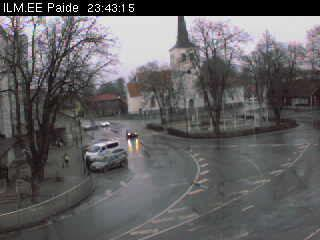car: (88, 153, 127, 175), (84, 140, 119, 160), (97, 148, 127, 164), (81, 122, 100, 131), (126, 129, 139, 140), (99, 120, 111, 128)
person: (0, 164, 10, 187), (62, 151, 71, 169), (56, 136, 62, 151), (60, 137, 64, 153)
